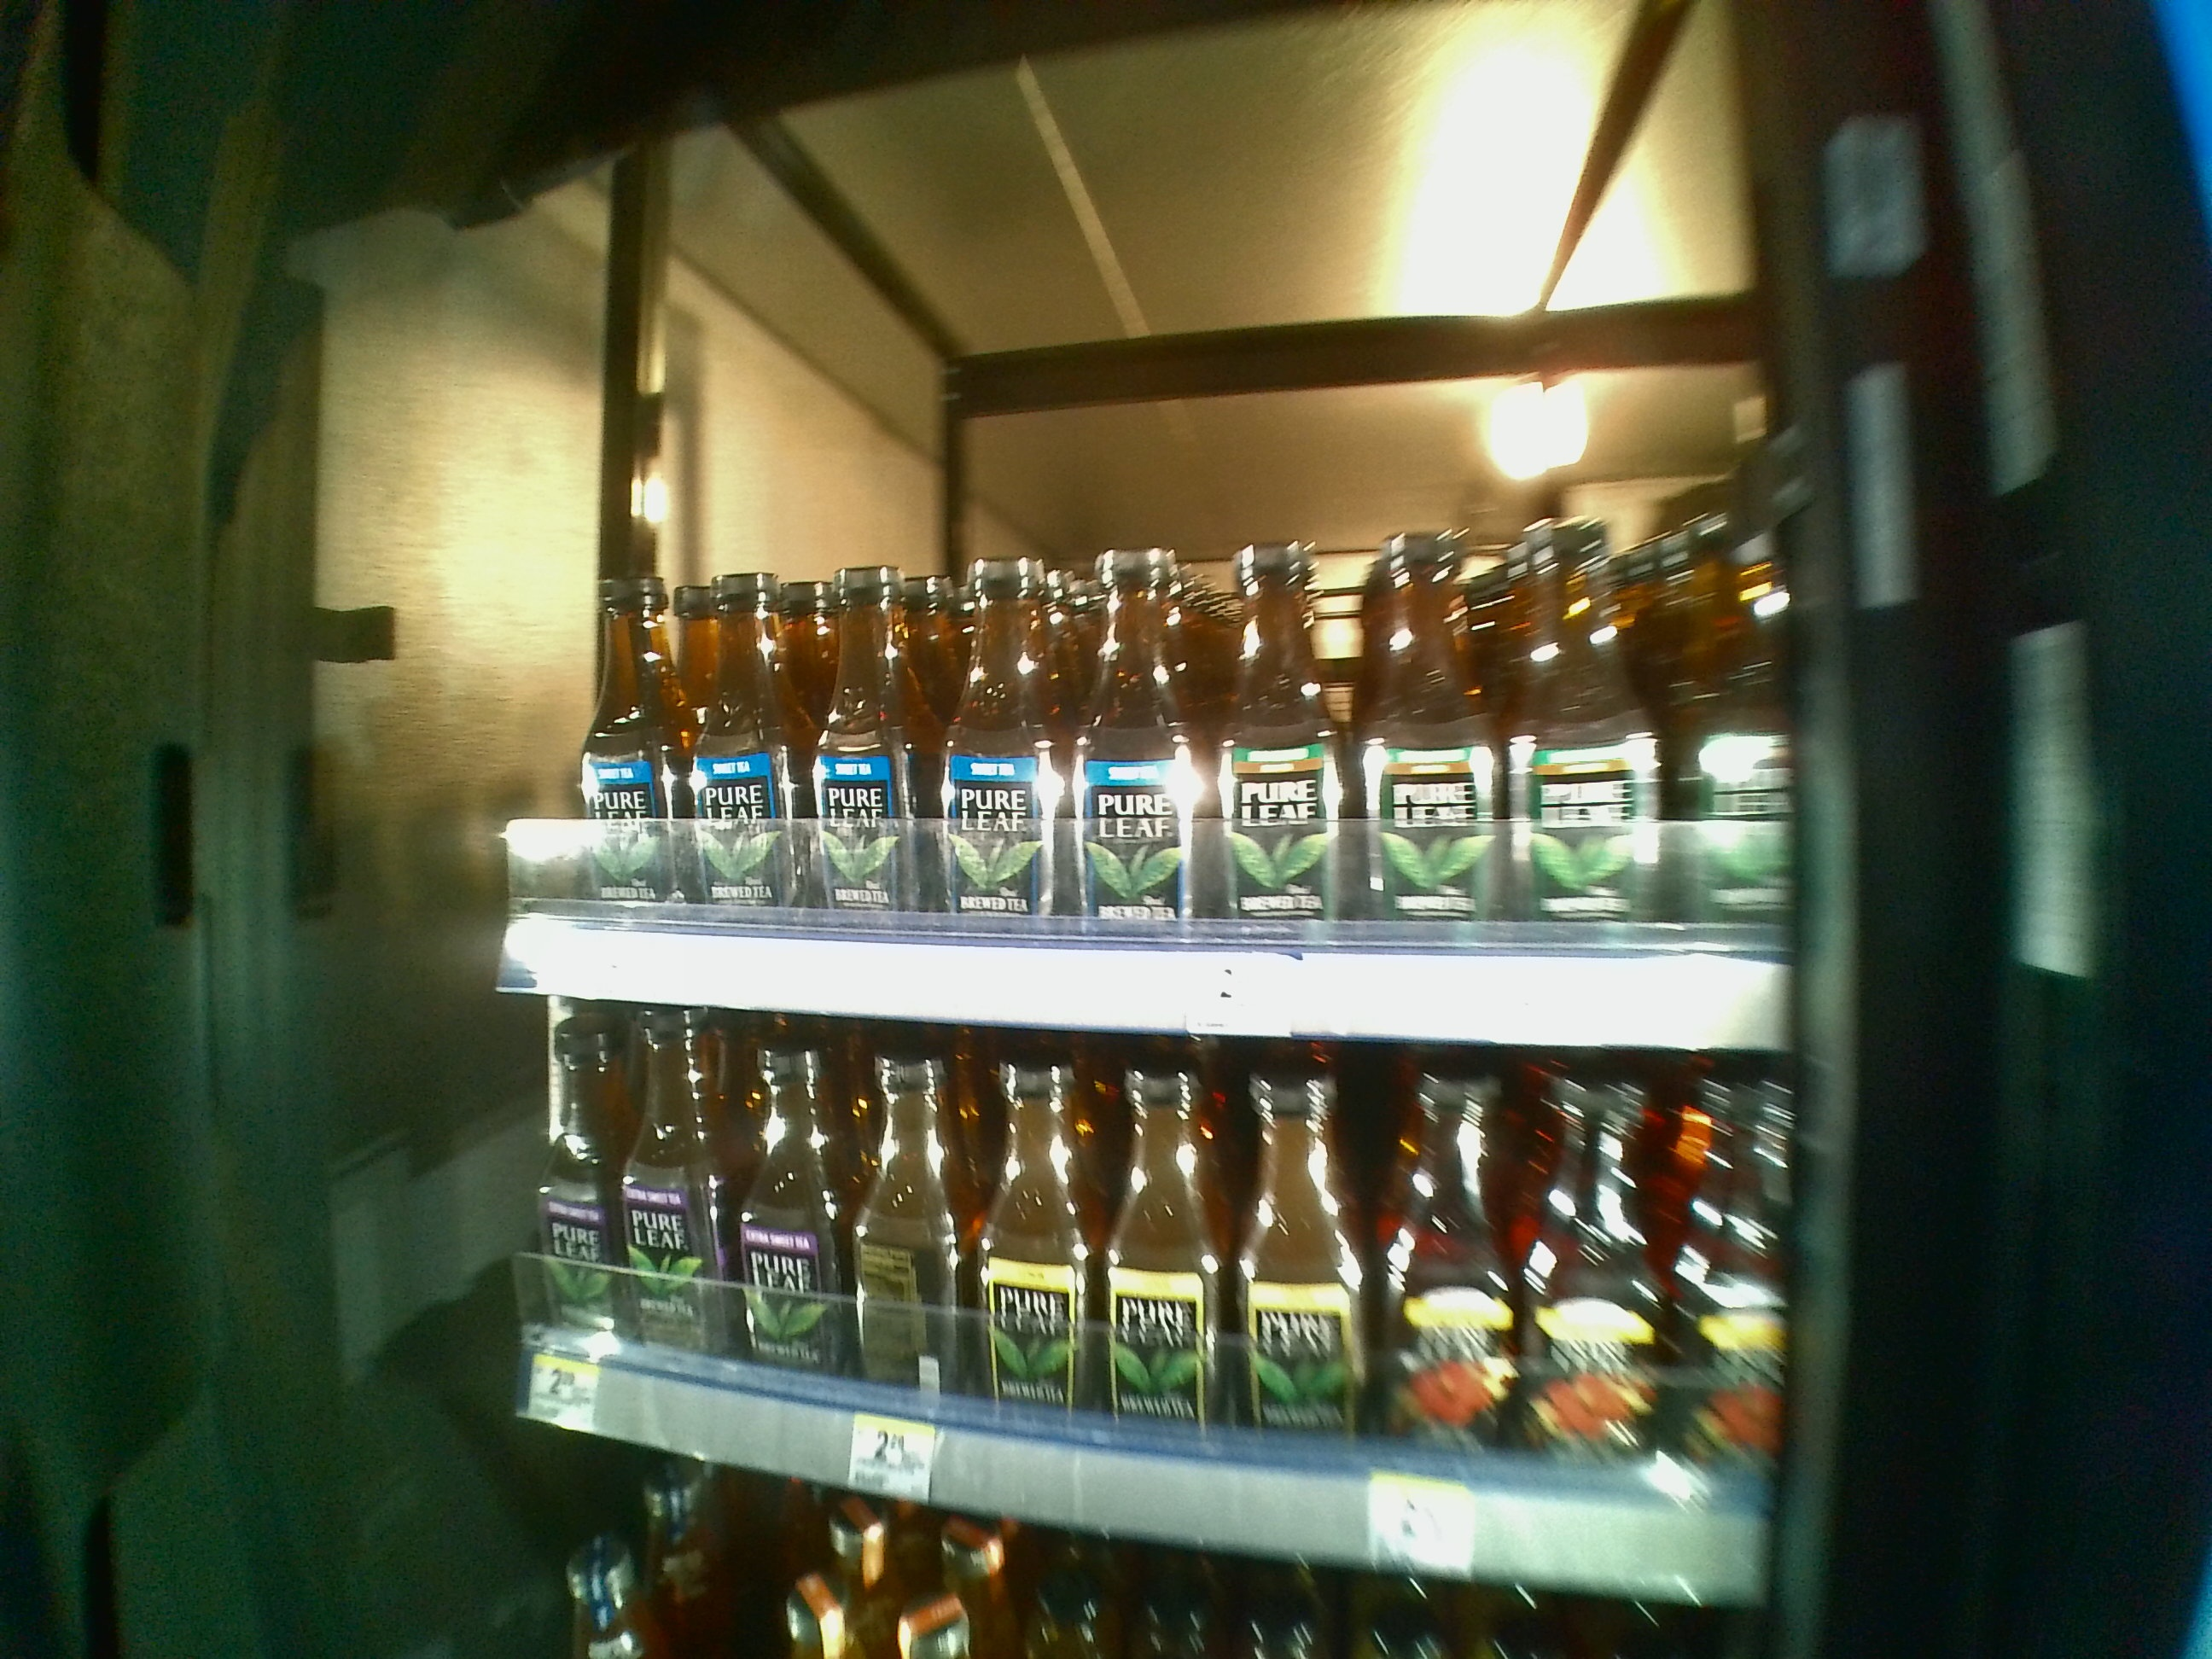shelf: (469, 350, 1782, 1047), (500, 1068, 1771, 1595)
